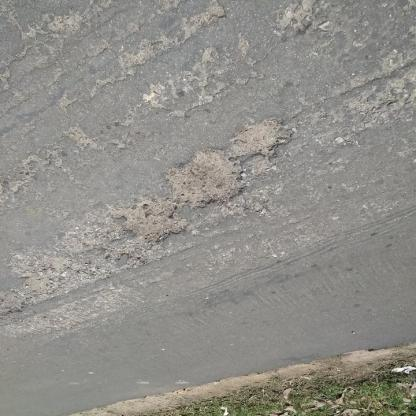pothole: (1, 257, 82, 321), (164, 150, 247, 210), (120, 198, 188, 248), (232, 115, 292, 161)
